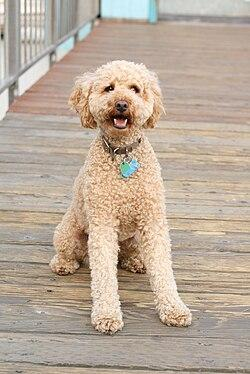dog: (50, 61, 191, 333)
